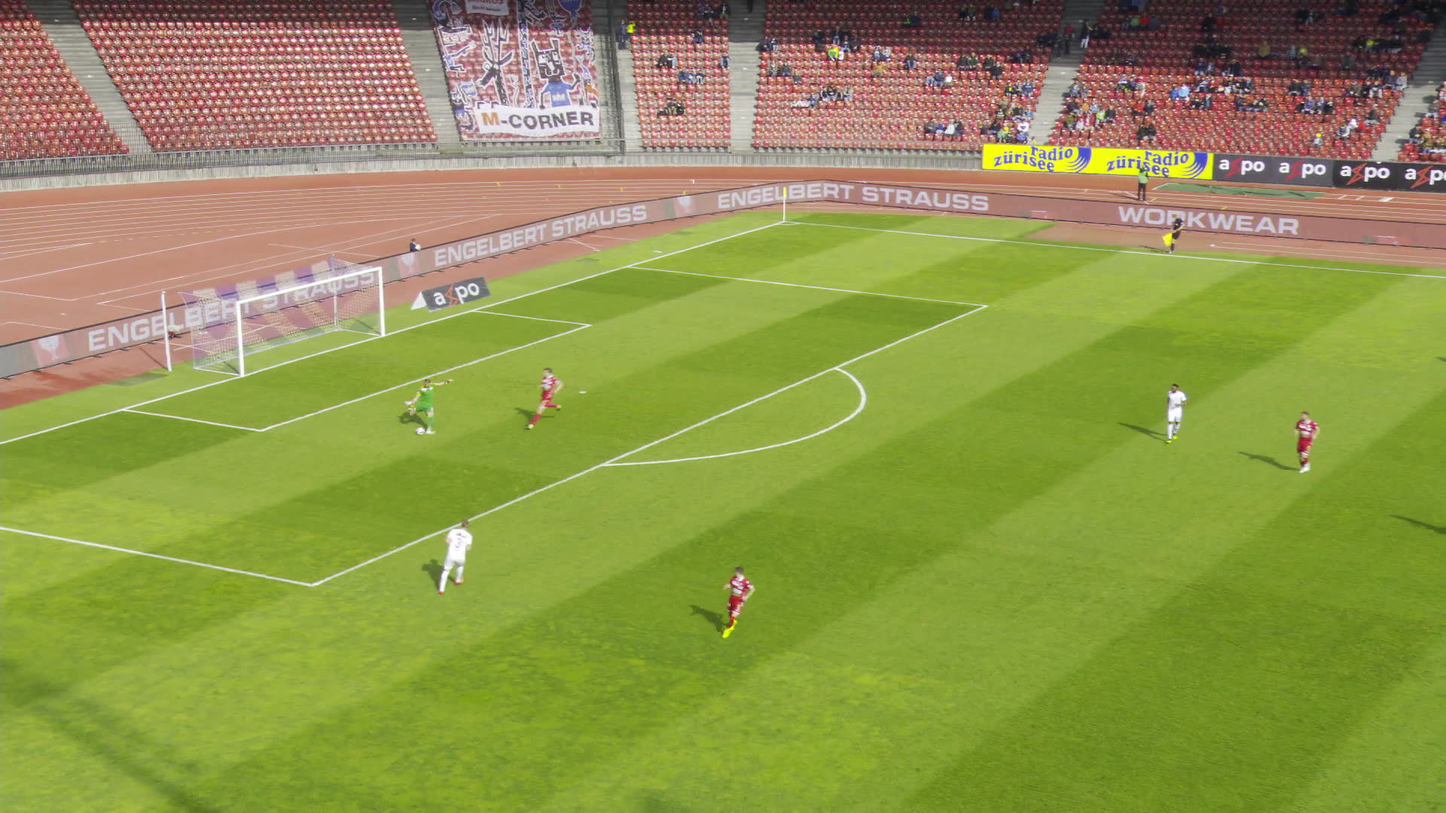ball: (416, 428, 423, 434)
player: (436, 513, 477, 595), (517, 363, 564, 431), (716, 567, 756, 639), (403, 375, 448, 432), (1290, 409, 1322, 475), (1161, 382, 1188, 445)
referee: (1161, 210, 1183, 253)
